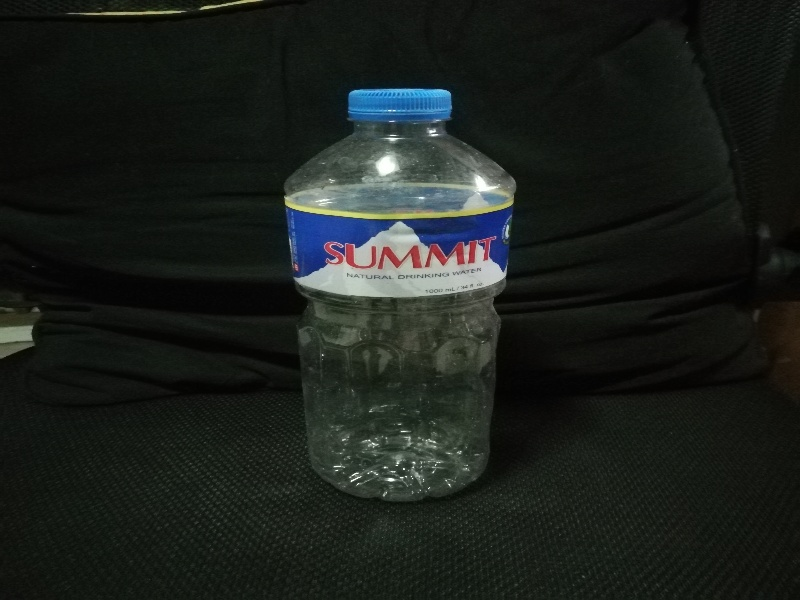PET #1: (281, 81, 519, 507)
